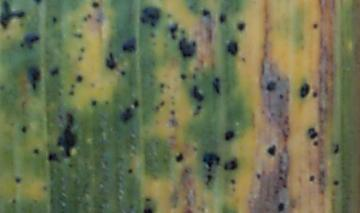tarspot: (57, 111, 76, 157), (1, 1, 24, 29), (140, 7, 161, 26), (25, 66, 41, 89), (179, 38, 197, 57), (202, 152, 220, 171), (120, 36, 137, 54), (24, 32, 40, 48), (191, 85, 205, 102), (105, 53, 116, 71), (119, 108, 132, 123), (47, 152, 61, 164), (299, 83, 310, 98), (169, 23, 178, 41), (228, 40, 237, 58), (223, 130, 235, 143), (212, 78, 221, 95), (265, 80, 277, 91), (225, 159, 237, 170), (267, 143, 277, 156), (49, 66, 60, 76), (236, 22, 246, 32), (307, 128, 317, 138), (202, 8, 211, 18), (307, 174, 316, 183), (132, 99, 140, 109), (175, 152, 183, 162), (219, 14, 227, 24), (332, 143, 340, 153), (206, 174, 213, 185), (278, 202, 285, 213), (91, 1, 100, 9), (142, 196, 152, 203), (89, 99, 97, 107), (179, 73, 187, 81), (31, 1, 43, 6), (72, 32, 82, 38), (21, 124, 27, 134), (142, 207, 152, 213), (33, 147, 40, 155), (14, 176, 22, 183), (76, 75, 83, 83), (119, 69, 126, 77), (312, 90, 319, 98), (254, 172, 261, 180), (165, 12, 173, 19), (76, 55, 83, 62), (148, 32, 156, 38), (154, 103, 160, 111), (52, 15, 57, 24), (127, 168, 133, 175), (195, 104, 202, 110), (333, 179, 339, 186), (104, 99, 110, 106), (67, 162, 73, 169), (279, 93, 284, 101), (83, 16, 89, 22), (230, 178, 236, 184), (70, 82, 76, 88), (42, 185, 48, 191), (312, 23, 317, 30), (171, 109, 176, 116), (160, 100, 165, 107), (192, 73, 197, 80), (57, 90, 62, 97), (242, 55, 246, 63), (19, 43, 25, 48), (87, 13, 92, 19), (159, 83, 165, 88), (313, 140, 318, 146), (180, 29, 186, 34), (68, 92, 75, 96), (278, 176, 283, 181), (81, 47, 85, 53), (12, 199, 16, 204), (283, 184, 287, 188)
